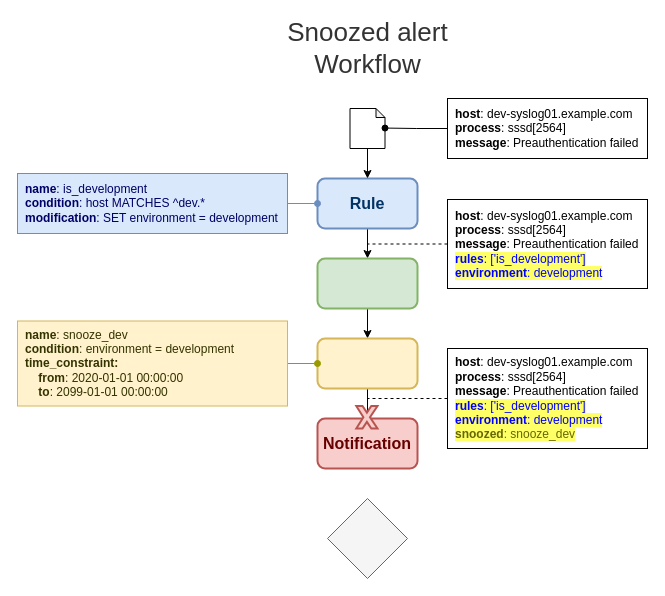
Image size: 665x596. Some labels were removed from this diagram. The shapes that lost their labels are listed below. From the top down, each one's centre as x and y in pixels, then its label:
the point at 367,128: Log
the point at 367,283: Aggregate
the point at 367,363: Snooze
the point at 367,538: Action
